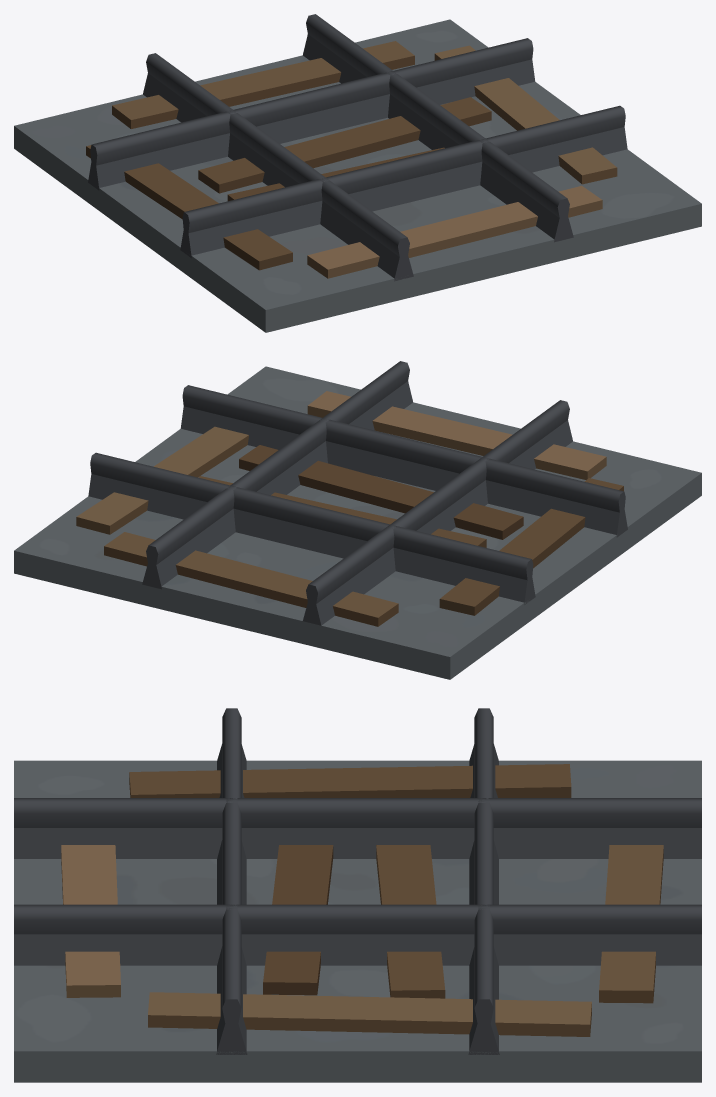
Rendered from Railroad_B02.fbx.
The picture shows the model from 3 angles, top to bottom: view 1: azimuth 30°, elevation 25°; view 2: azimuth 150°, elevation 25°; view 3: azimuth 270°, elevation 25°; orthographic projection. The views are drawn at different scales.
Parts seen in each view (by area): view 1: Railroad_B02; view 2: Railroad_B02; view 3: Railroad_B02.
Part boxes in pixels (x1,y1,x2,y2): Railroad_B02: [14, 14, 701, 332]; Railroad_B02: [14, 361, 701, 679]; Railroad_B02: [14, 708, 701, 1082].
Size of the model in its own units: 400 by 53.47 by 400.
1 material, 1 textured.
